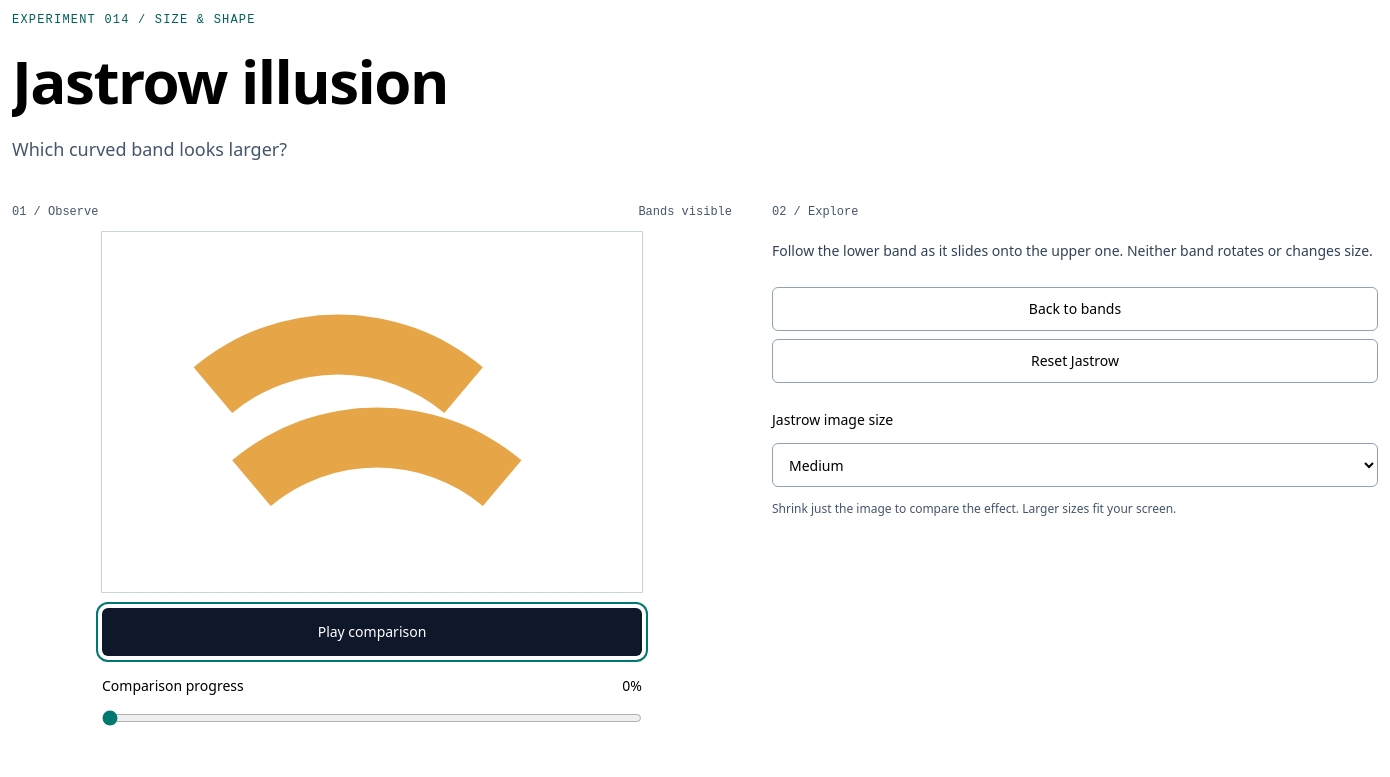
Test case: Jastrow guided comparison › supports keyboard Play/Pause and announces only the slide and exact-fit stages
Type keys " "
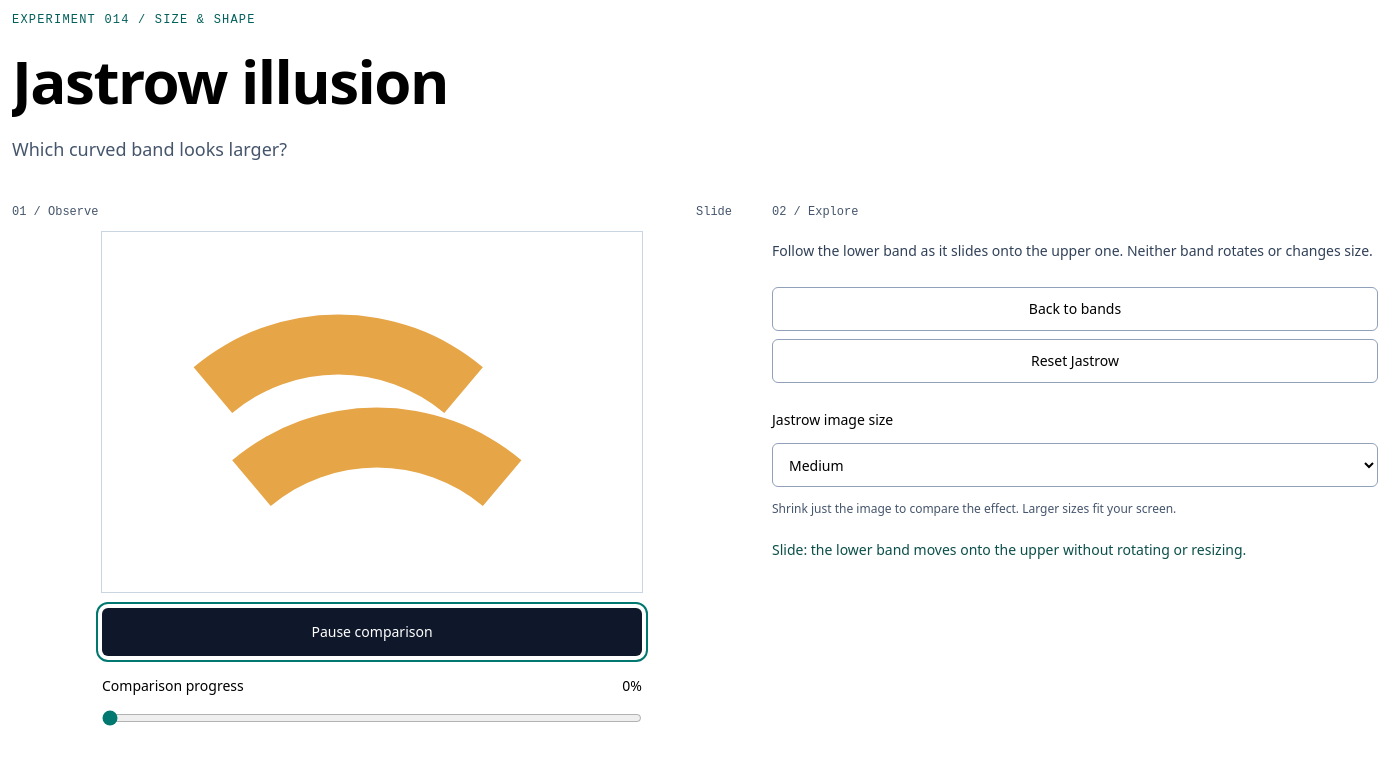
Press Enter
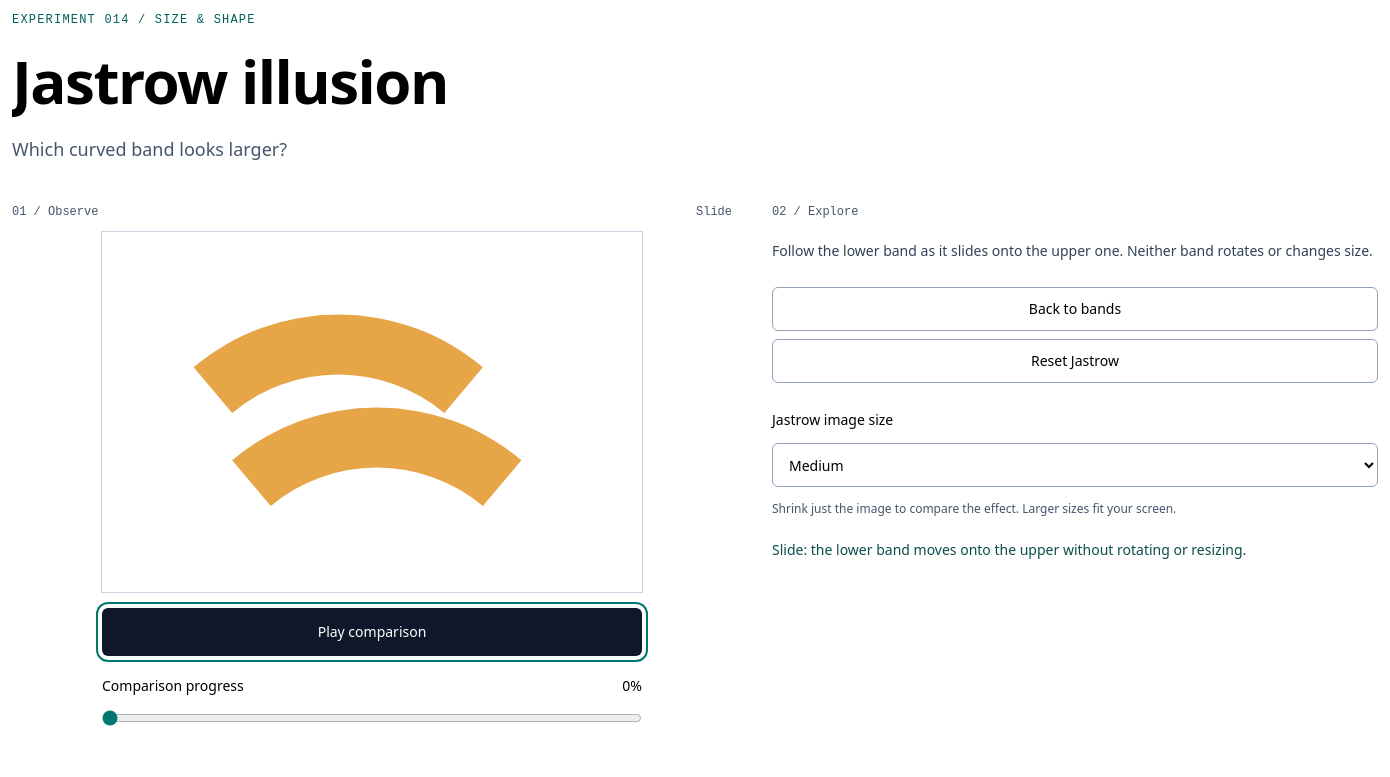
Set the slider labelled "Comparison progress" to "25" at [241, 718], box left=102, top=696, right=642, bottom=740
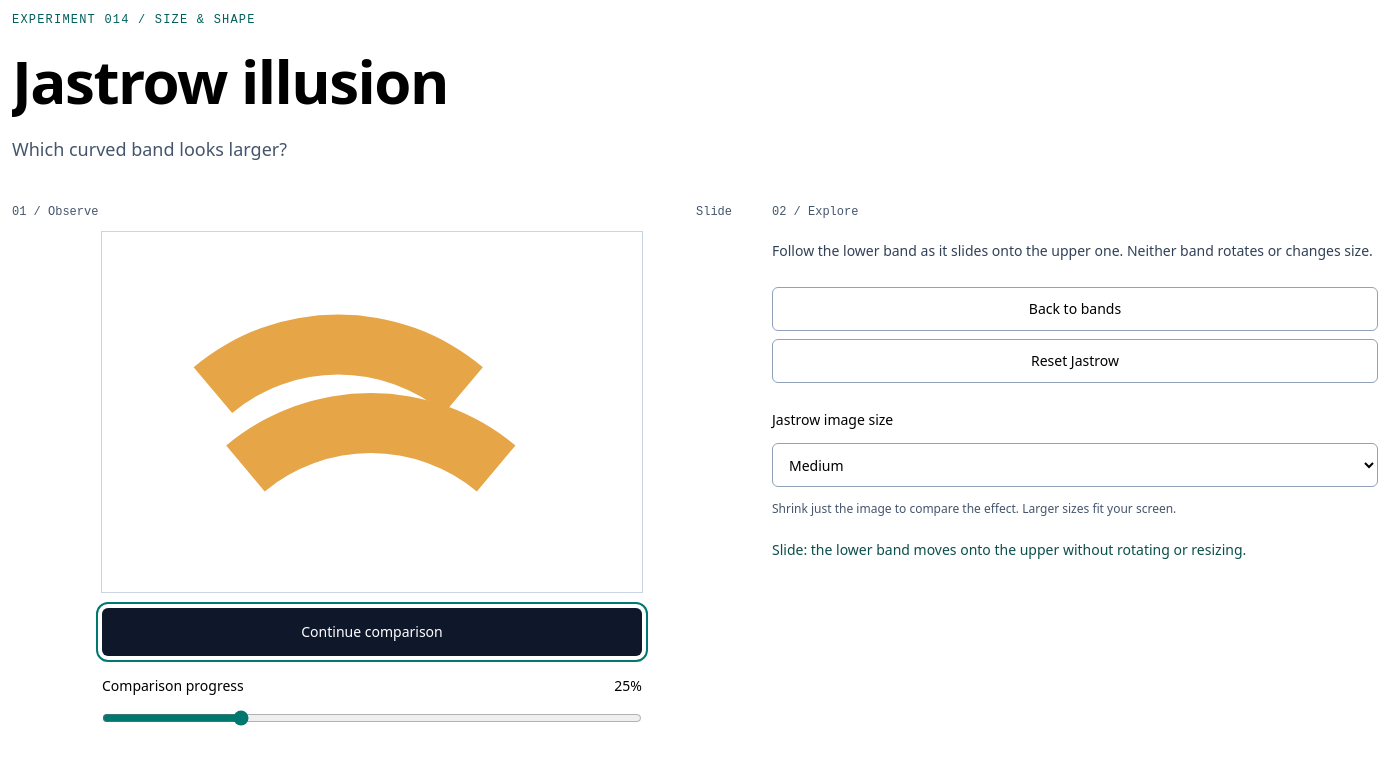
Set the slider labelled "Comparison progress" to "75" at [503, 718], box left=102, top=696, right=642, bottom=740
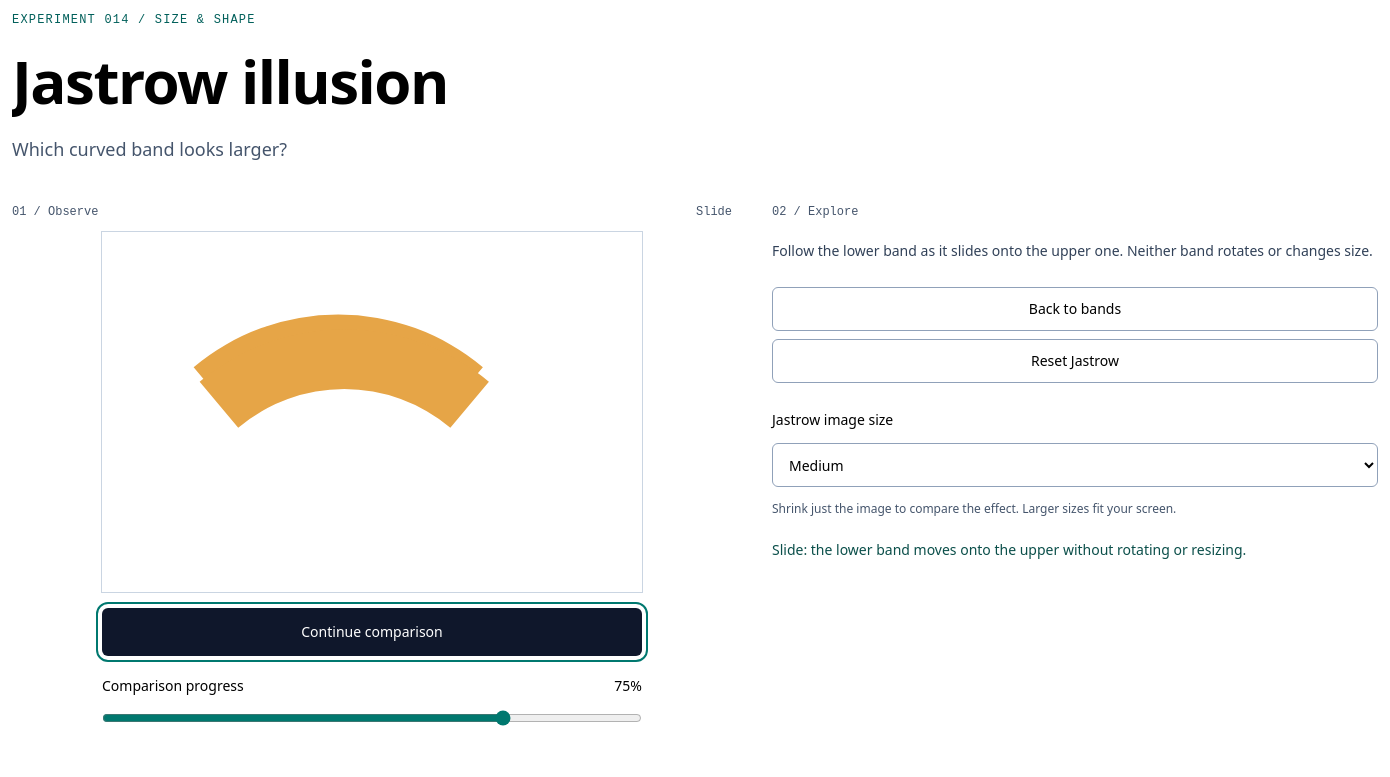
Now the text "Slide: the lower band moves onto the upper without rotating or resizing." is shown, box left=772, top=540, right=1246, bottom=558
Set the slider labelled "Comparison progress" to "100" at [634, 718], box left=102, top=696, right=642, bottom=740
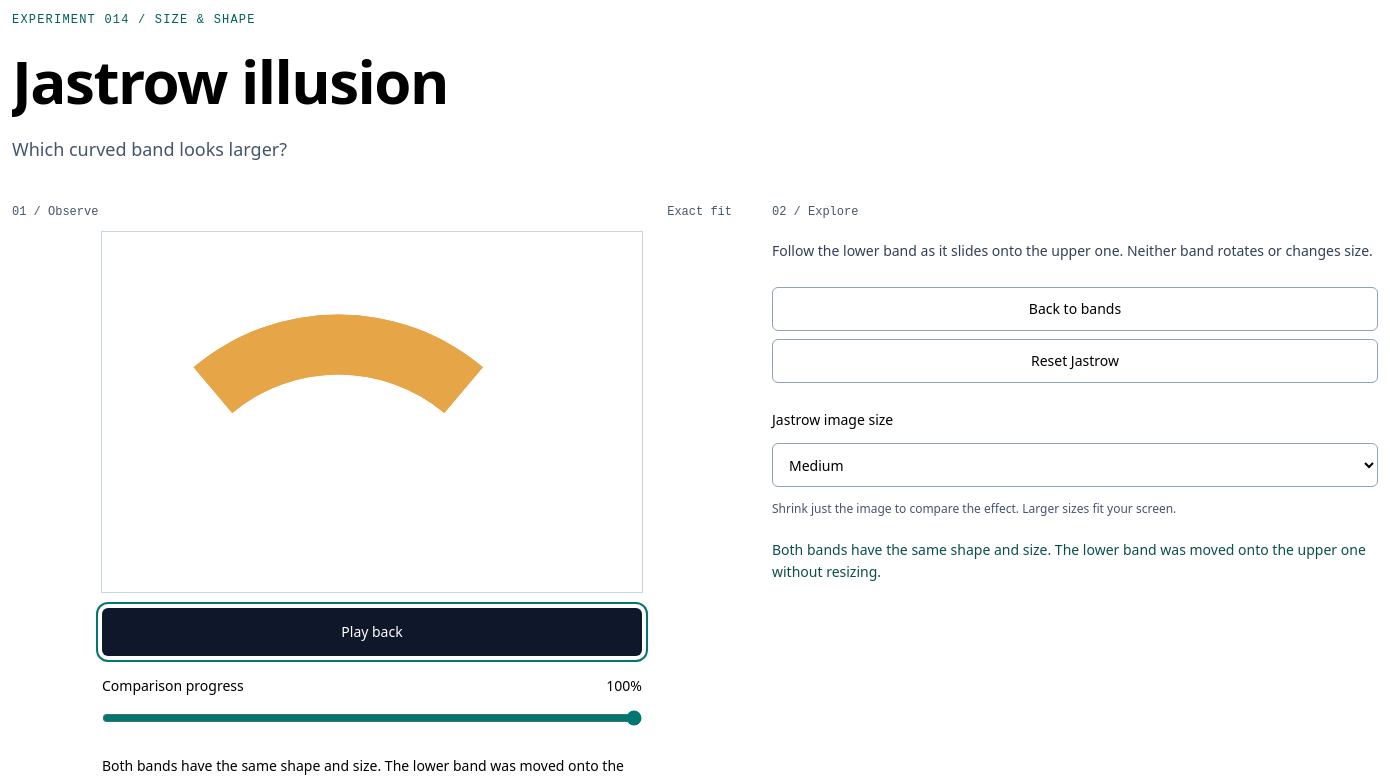
Now the text "Slide: the lower band moves onto the upper without rotating or resizing." is gone
